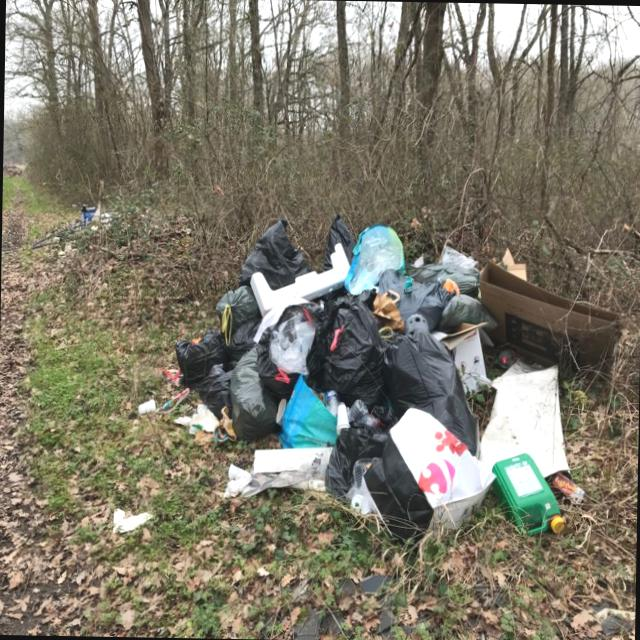garbage: (160, 215, 624, 542)
